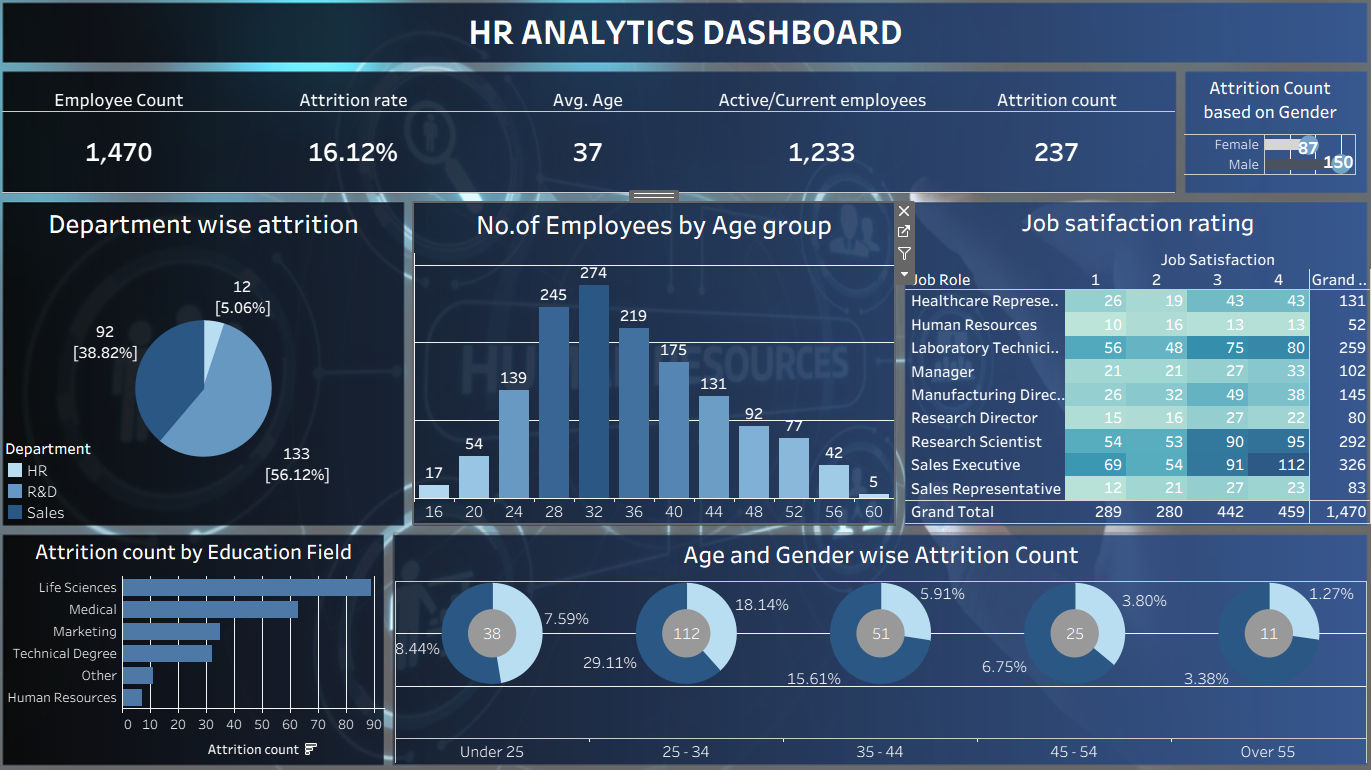

What the dashboard file says about the page in this screenshot:
{"tool":"tableau","page":{"name":"Dashboard 1","canvas":[1000,1000],"units":"permille","ordinal":0},"visuals":[{"type":"image","param":"Image/HR background.pptx.png","box":[5.7,10,988.6,980]},{"type":"text","box":[12.9,29.9,975,59.9]},{"type":"worksheet","title":"Sheet 1","mark":"Automatic","box":[12.1,109.7,837.9,152.1]},{"type":"worksheet","title":"Sheet 2","mark":"Automatic","rows":["Gender"],"cols":["Calculation_95982975633416192","Calculation_95982975633416192"],"box":[856.4,109.7,129.3,152.1]},{"type":"worksheet","title":"Department wise attrition","mark":"Pie","box":[12.9,273.1,286.4,402.7]},{"type":"worksheet","title":"Job satifaction rating","mark":"Square","rows":["Job Role"],"cols":["Job Satisfaction"],"box":[657.1,273.1,332.9,401.5]},{"type":"worksheet","title":"No.of Employees by Age group","mark":"Automatic","rows":["Employee Count"],"cols":["Age (bin)"],"box":[306.4,274.3,342.9,399]},{"type":"legend","title":"Department wise attrition","param":"[federated.036rclx19kywhq1cv9d5s04r4gdf].[none:Department:nk]","box":[14.3,567.3,100,106]},{"type":"worksheet","title":"Attrition count by Education Field","mark":"Automatic","rows":["Education Field"],"cols":["Calculation_95982975633416192"],"box":[12.1,685.8,273.6,289.3]},{"type":"worksheet","title":"Age and Gender wise Attrition Count","mark":"Pie","rows":["Calculation_702561551596126209","Calculation_702561551596126209"],"cols":["CF_age band"],"box":[292.9,687,694.3,286.8]}]}

Visuals, with their boxes on the dashboard's canvas, which has no fixed pixel size, in thousandths of its width and height (x1, y1, x2, y2). These are canvas units, not pixel positions in the 1371x770 screenshot, which may show the page scaled, cropped or inside an application window:
image: <bbox>6, 10, 994, 990</bbox>
text: <bbox>13, 30, 988, 90</bbox>
"Sheet 1" worksheet: <bbox>12, 110, 850, 262</bbox>
"Sheet 2" worksheet: <bbox>856, 110, 986, 262</bbox>
"Department wise attrition" worksheet (Pie marks): <bbox>13, 273, 299, 676</bbox>
"Job satifaction rating" worksheet (Square marks): <bbox>657, 273, 990, 675</bbox>
"No.of Employees by Age group" worksheet: <bbox>306, 274, 649, 673</bbox>
"Department wise attrition" legend: <bbox>14, 567, 114, 673</bbox>
"Attrition count by Education Field" worksheet: <bbox>12, 686, 286, 975</bbox>
"Age and Gender wise Attrition Count" worksheet (Pie marks): <bbox>293, 687, 987, 974</bbox>
